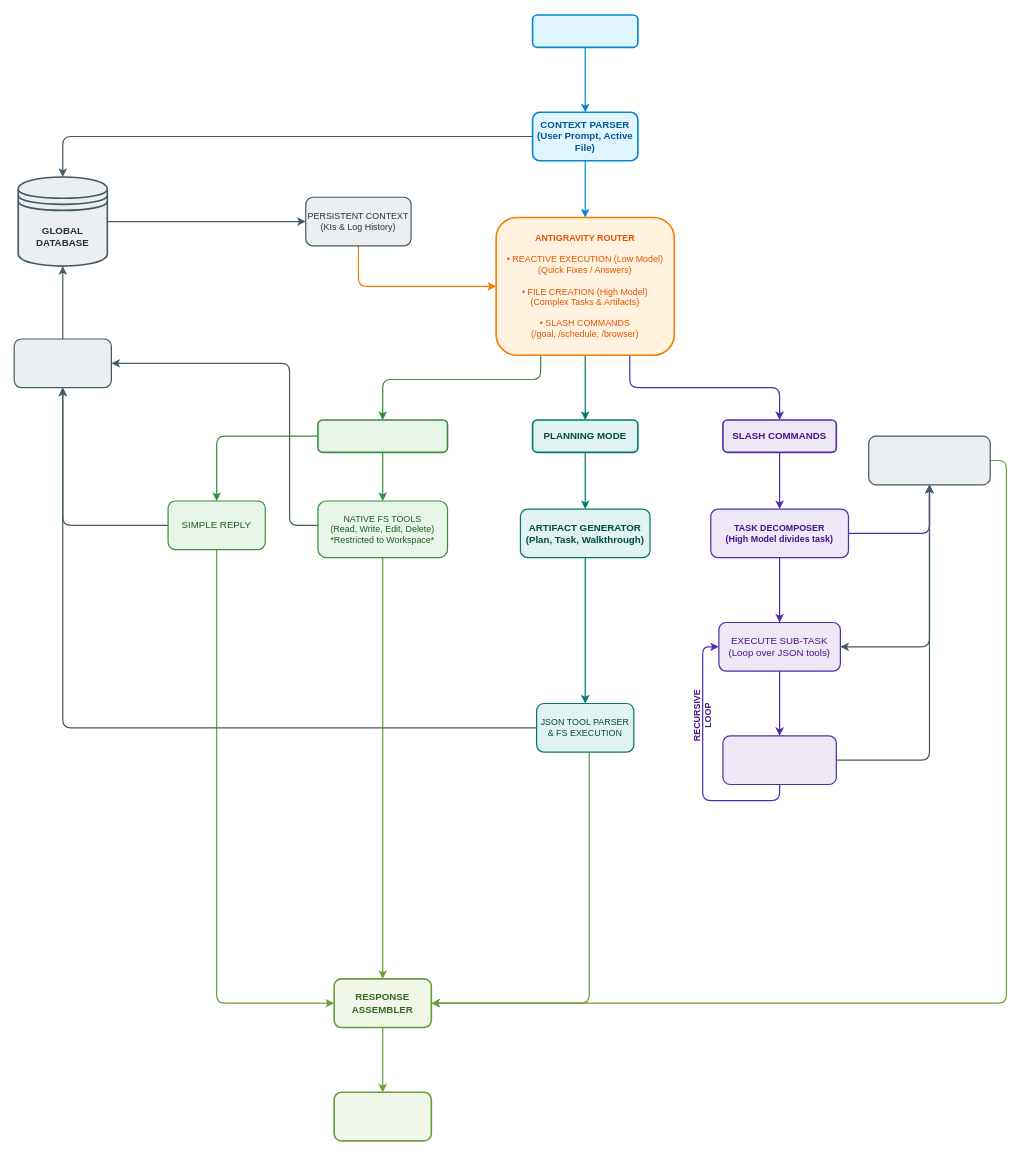
Image size: 1028x1155. Some labels were removed from this diagram. The shapes that lost their labels are listed below. From the top down, each one's centre as x and y in pixels, then its label:
[584,31]: USER INPUT
[62,363]: LOGS / CHAT HISTORY
[382,436]: REACTIVE EXECUTION
[929,460]: LOCAL BRAIN STORAGE (<appDataDir>\brain)
[779,760]: TOOL REFLECTION (Send FS Result to Ollama)
[382,1116]: OUTPUT FORMATTER (Markdown, Artifacts)
